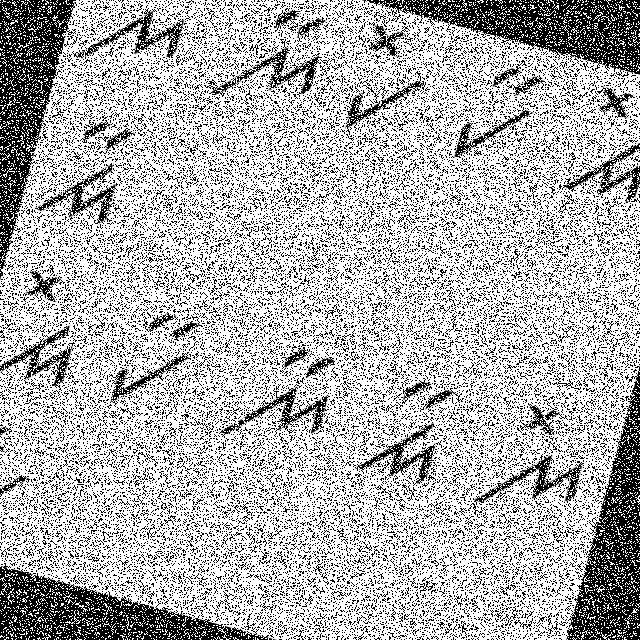dan: (29, 108, 153, 245), (344, 363, 466, 498)
do: (0, 254, 107, 400), (555, 74, 639, 213)
nan: (210, 322, 348, 463), (201, 0, 343, 125)
no: (465, 384, 605, 544), (69, 0, 204, 93)
pan: (433, 46, 552, 184), (100, 294, 208, 422)
po: (329, 15, 447, 148), (0, 411, 43, 545)
